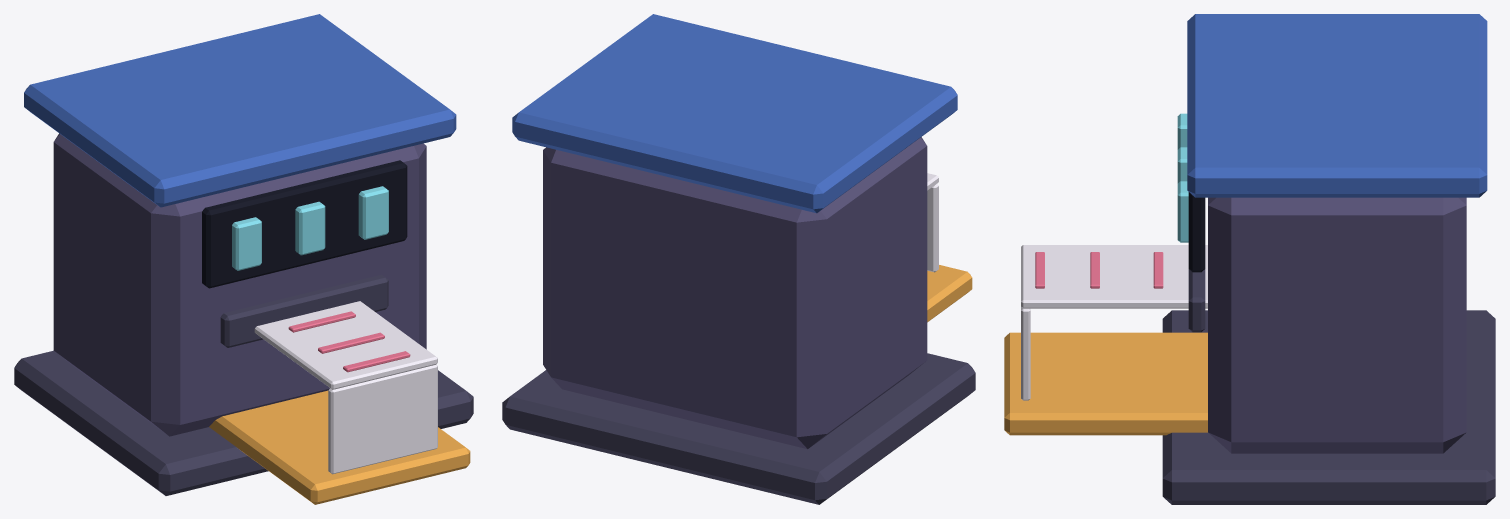
File: 11_Ticket_Dispenser.glb
3 renders of one model, left to right at view 1: azimuth 30°, elevation 25°; view 2: azimuth 150°, elevation 25°; view 3: azimuth 270°, elevation 25°, orthographic. The views are drawn at different scales.
Visible parts, largest first — view 1: 11_Ticket_Dispenser__Body; view 2: 11_Ticket_Dispenser__Body; view 3: 11_Ticket_Dispenser__Body.
Part boxes in pixels (x1,y1,x2,y2): 11_Ticket_Dispenser__Body: (14, 14, 473, 504); 11_Ticket_Dispenser__Body: (502, 14, 975, 504); 11_Ticket_Dispenser__Body: (1004, 14, 1495, 504).
Size of the model in its own units: 1.44 by 1.34 by 1.79.
1 material, 1 textured.
